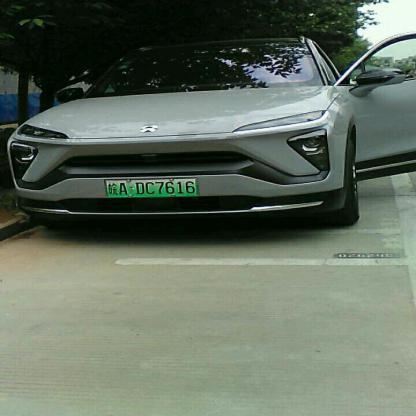lp: (104, 178, 198, 198)
